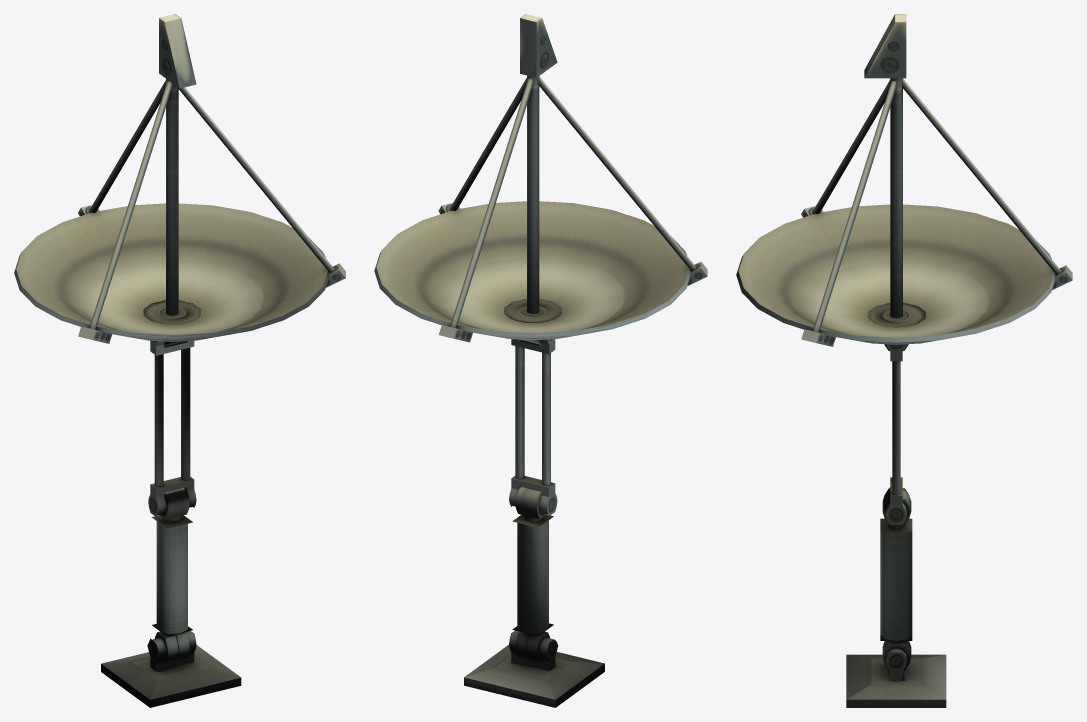
The model's file is satelite.obj.
3 renders of one model, left to right at view 1: azimuth 30°, elevation 25°; view 2: azimuth 150°, elevation 25°; view 3: azimuth 270°, elevation 25°, orthographic.
Visible parts, largest first — view 1: Circle.003_Circle.008; view 2: Circle.003_Circle.008; view 3: Circle.003_Circle.008.
Boxes of the visible parts, bbox=[...] form: Circle.003_Circle.008: bbox=[14, 14, 345, 707]; Circle.003_Circle.008: bbox=[374, 14, 707, 707]; Circle.003_Circle.008: bbox=[736, 14, 1072, 707].
Bounding box in the file's own units: 1.99 × 4.57 × 2.09.
1 material, 1 textured.
